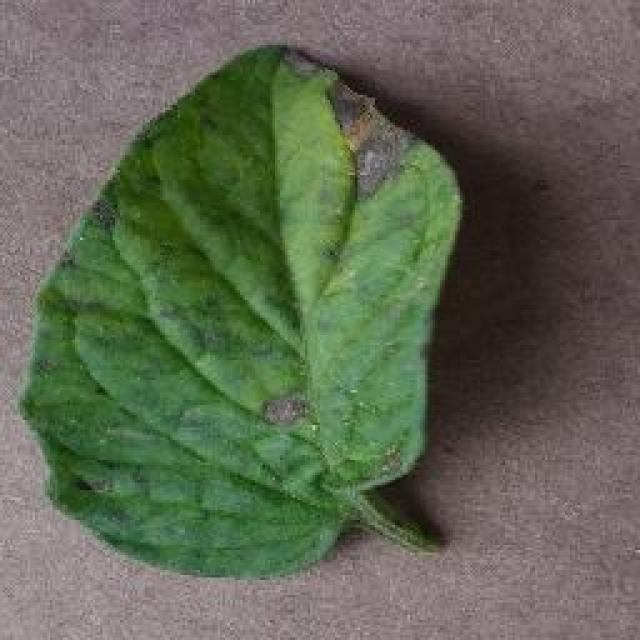Tomato_Early_Blight: (202, 34, 483, 481)
